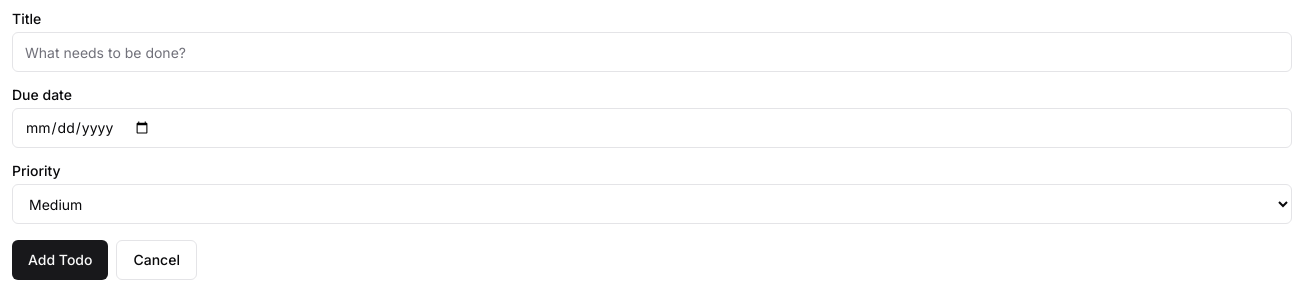
Test: TodoForm › disables submit button while submitting
In the field labelled "Title": (652, 52) [12,32,1292,72], type "Test"
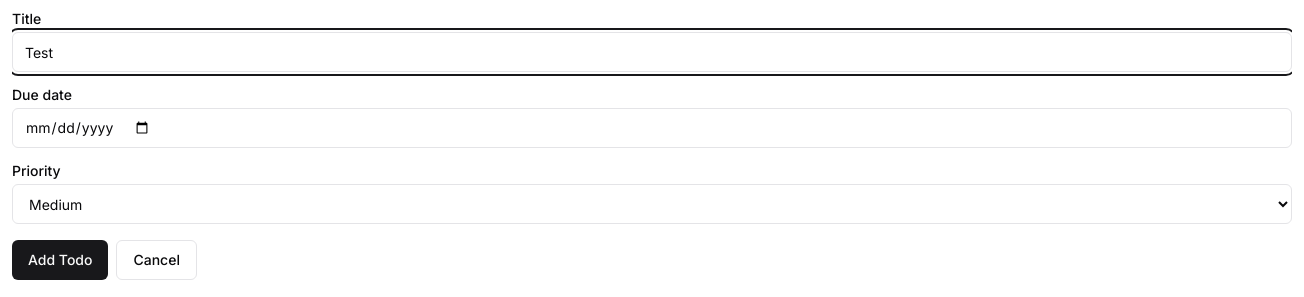
Click the button "Add Todo": (60, 260) [12,240,108,280]
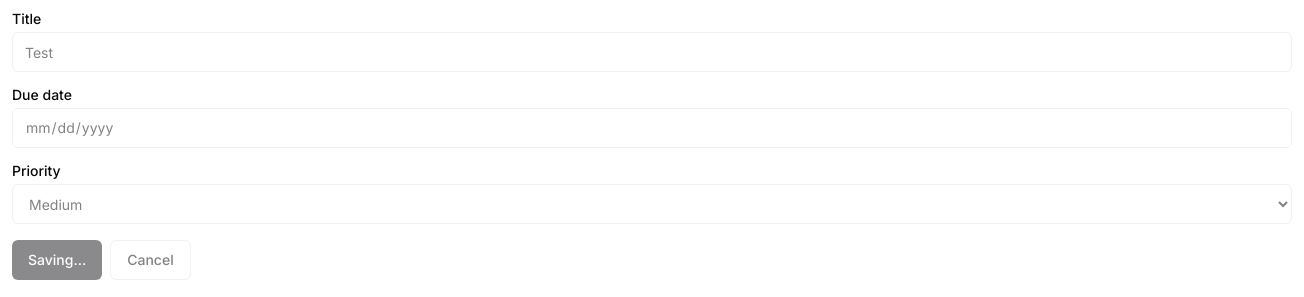
Check: the button "Saving..." is disabled, box [12,240,102,280]
